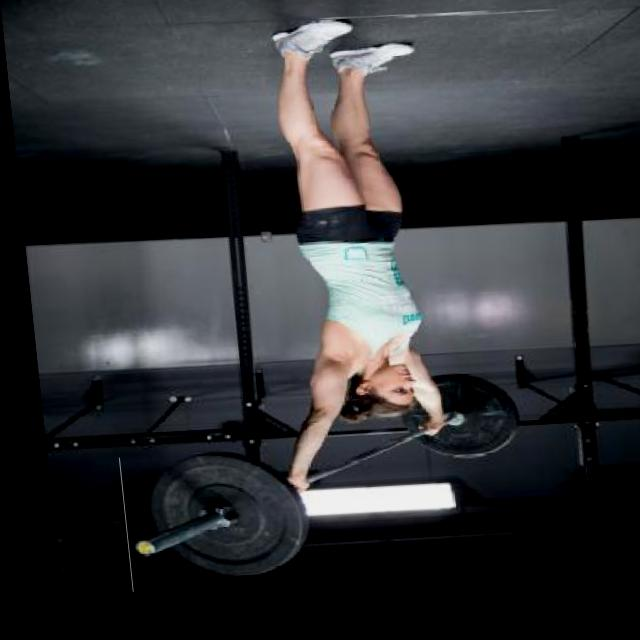barbell: (110, 450, 308, 593)
